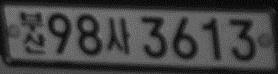1: (201, 17, 226, 59)
3: (141, 15, 168, 58), (229, 18, 256, 60)
6: (171, 16, 198, 59)
8: (76, 13, 102, 56)
9: (48, 11, 71, 53)
부산_V: (19, 11, 47, 55)
사: (106, 16, 131, 55)
